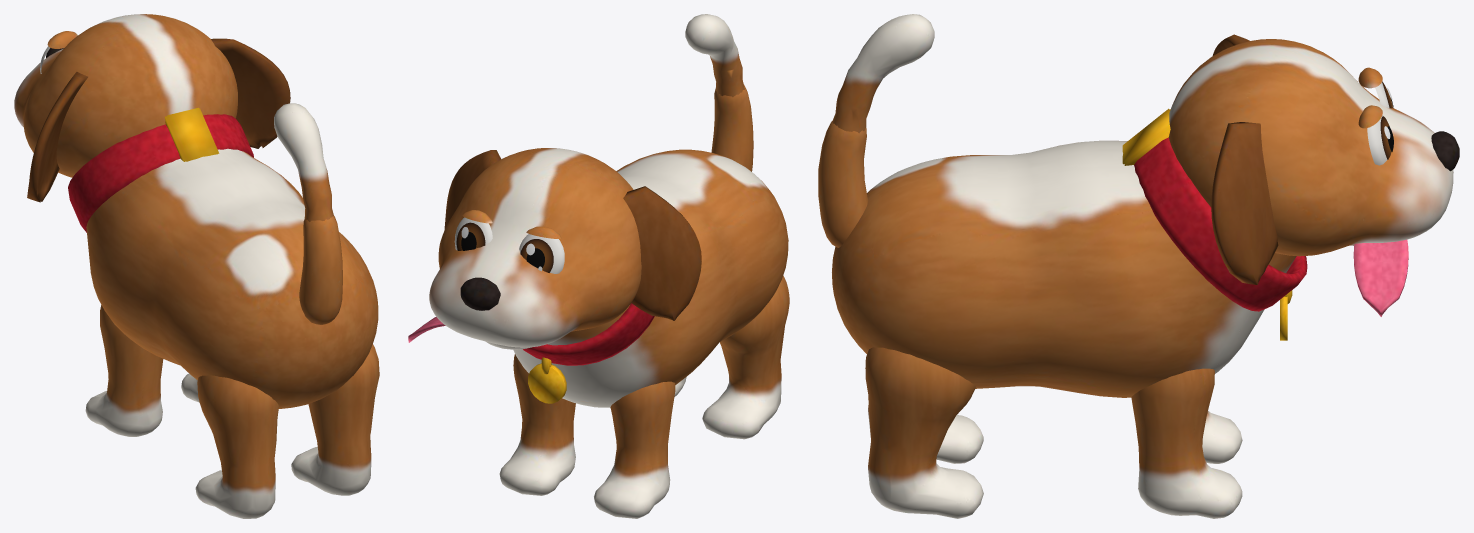
The model's file is panela.glb.
The picture shows the model from 3 angles, left to right: view 1: azimuth 30°, elevation 25°; view 2: azimuth 150°, elevation 25°; view 3: azimuth 270°, elevation 25°; orthographic projection. The views are drawn at different scales.
Parts seen in each view (by area): view 1: torso, head, leg_BL, collar, leg_BR, leg_FL, ear_R, tail, tail_tip, ear_L; view 2: head, torso, leg_FL, leg_BL, ear_L, leg_FR, collar, tail_tip, tail, ear_R, eye_L, tag (+1 smaller); view 3: torso, head, leg_BR, leg_FR, collar, ear_R, tail_tip, tail, tongue, leg_BL, leg_FL, eye_R.
Part boxes in pixels (box(x1,y1,x2,y2)): torso: box(86, 148, 378, 408); head: box(14, 14, 237, 177); leg_BL: box(195, 375, 278, 518); collar: box(68, 107, 253, 232); leg_BR: box(291, 344, 379, 495); leg_FL: box(85, 305, 163, 436); ear_R: box(211, 38, 290, 148); tail: box(299, 215, 342, 324); tail_tip: box(274, 103, 333, 221); ear_L: box(27, 72, 87, 202); head: box(429, 148, 641, 347); torso: box(513, 149, 788, 407); leg_FL: box(594, 381, 675, 518); leg_BL: box(702, 275, 789, 439); ear_L: box(623, 186, 701, 320); leg_FR: box(499, 354, 575, 495); collar: box(523, 303, 654, 365); tail_tip: box(685, 14, 744, 97); tail: box(711, 85, 753, 171); ear_R: box(444, 150, 500, 229); eye_L: box(519, 234, 564, 273); tag: box(528, 357, 566, 403); torso: box(832, 140, 1296, 397); head: box(1168, 39, 1459, 256); leg_BR: box(865, 347, 983, 518); leg_FR: box(1131, 368, 1242, 518); collar: box(1122, 108, 1307, 311); ear_R: box(1211, 122, 1278, 284); tail_tip: box(832, 14, 934, 133); tail: box(818, 120, 868, 247); tongue: box(1353, 239, 1408, 316); leg_BL: box(868, 405, 983, 463); leg_FL: box(1202, 410, 1242, 463); eye_R: box(1367, 115, 1393, 165).
Bounding box in the file's own units: 1.62 × 2.39 × 2.97.
2 materials, 1 textured.
